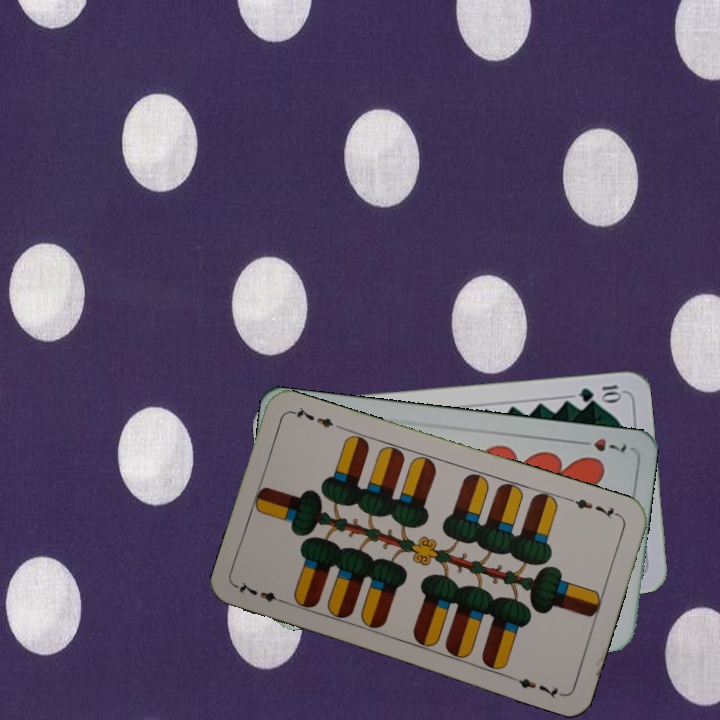E7: (233, 577, 291, 607), (565, 494, 623, 522)
G10: (575, 381, 624, 404)
H7: (573, 434, 629, 455)
